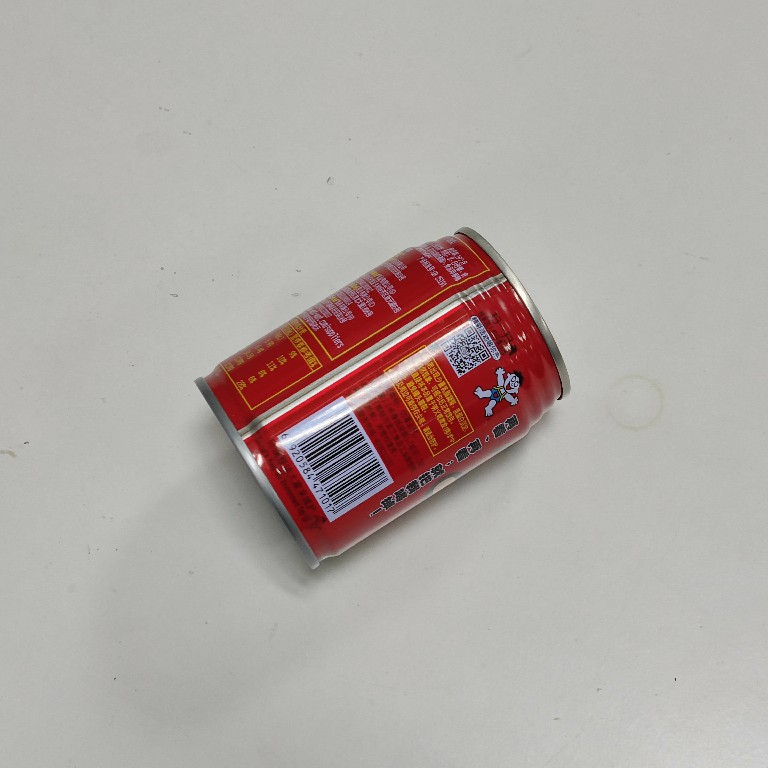can: (192, 222, 574, 572)
